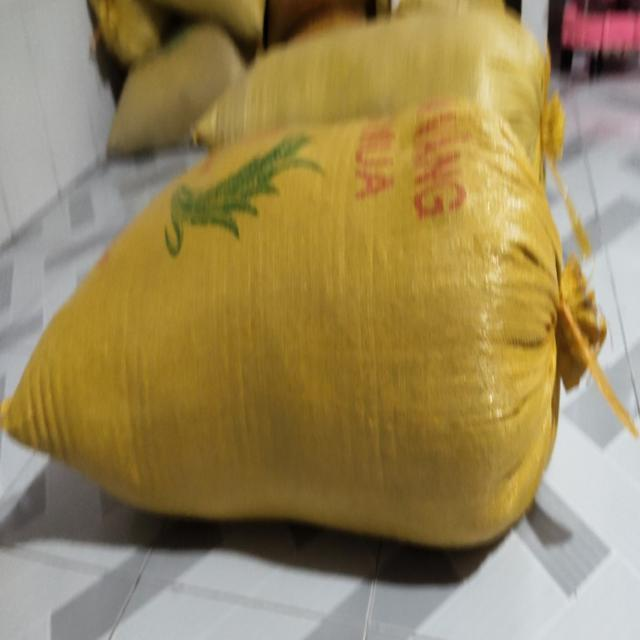gunny_bag: (1, 99, 563, 546), (195, 7, 546, 174)
